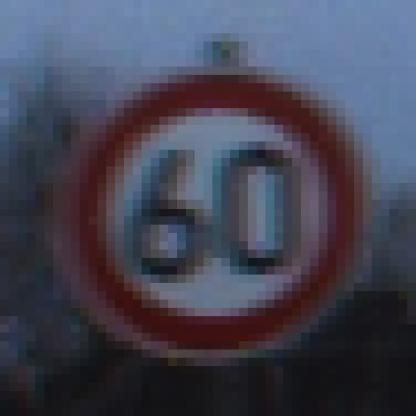Speed Limit 60: (74, 71, 360, 354)
